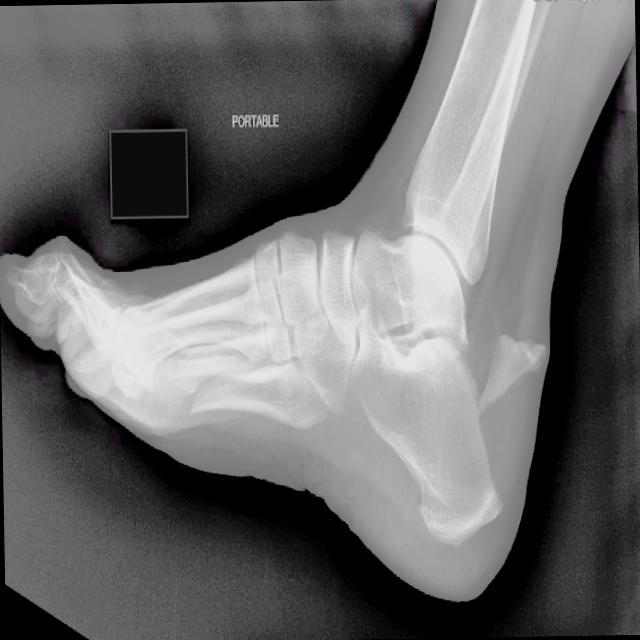Avlusion Fracture: (467, 329, 549, 435)
